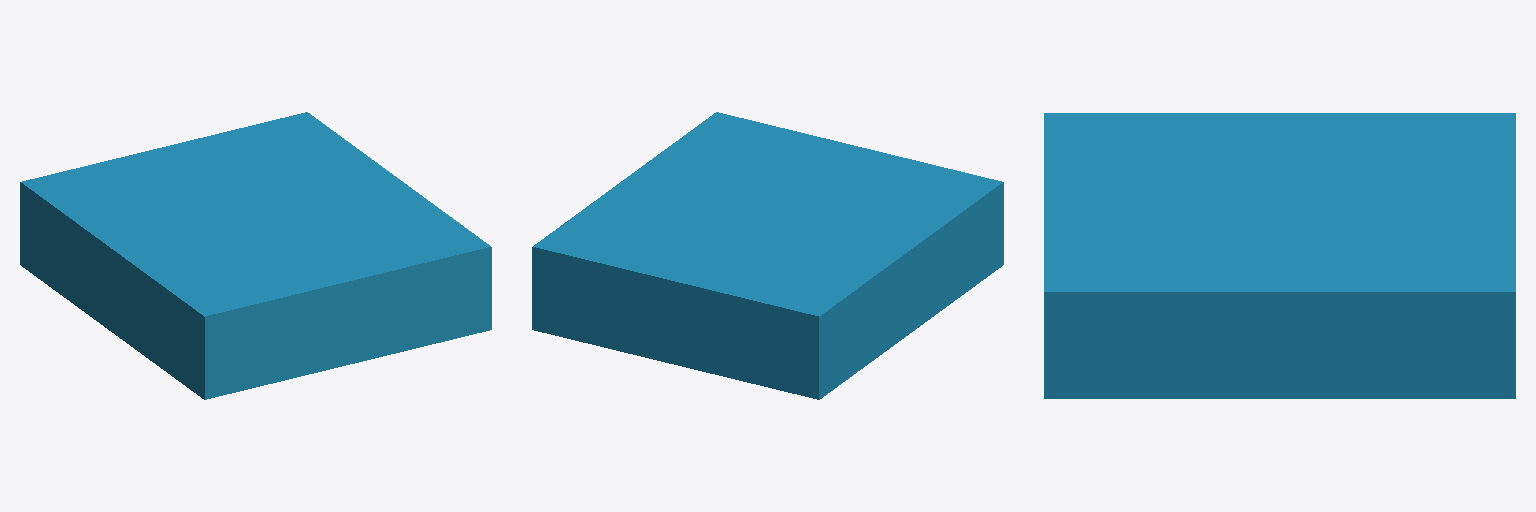
The robot description file, URDF, robot "cube":
<?xml version="1.0"?>
 <robot name="cube">
   <material name="blue">
     <color rgba="0.2 0.63137 0.788 1"/>
   </material>
   <link name="base_link">
     <visual>
       <geometry>
         <box size="0.18 0.2 0.05"/>
       </geometry>
       <material name="blue"/>
     </visual>
     <inertial>
       <mass value="0"/>
       <inertia ixx="1.0" ixy="0.0" ixz="0.0" iyy="1.0" iyz="0.0" izz="1.0"/>
     </inertial>
   </link>
 </robot>

--- Facts derived from the render (not from the file) ---
The picture shows the robot from 3 angles, left to right: view 1: azimuth 30°, elevation 25°; view 2: azimuth 150°, elevation 25°; view 3: azimuth 270°, elevation 25°; orthographic projection.
Robot: cube — 1 links, 0 joints (none); root link base_link; default pose: every joint at zero.
Visible links, largest first — view 1: base_link; view 2: base_link; view 3: base_link.
Boxes of the visible links, x1,y1,x2,y2 form: base_link: [20, 112, 491, 399]; base_link: [532, 112, 1003, 399]; base_link: [1044, 113, 1515, 398].
Size in the robot's own frame: 0.18 by 0.2 by 0.05 metres.
Geometry: primitives only (box / cylinder / sphere), no mesh files.